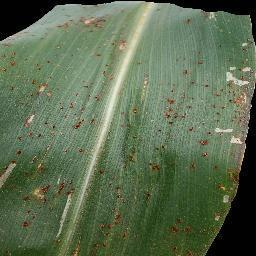Corn_Common_Rust: (0, 62, 109, 256), (0, 3, 129, 61), (109, 128, 162, 256), (162, 92, 253, 156), (176, 55, 256, 93), (171, 216, 216, 256), (120, 77, 153, 123), (223, 157, 244, 220), (181, 1, 222, 28), (222, 32, 255, 54), (182, 157, 198, 171), (207, 160, 220, 171), (134, 61, 148, 69), (215, 182, 223, 192)
